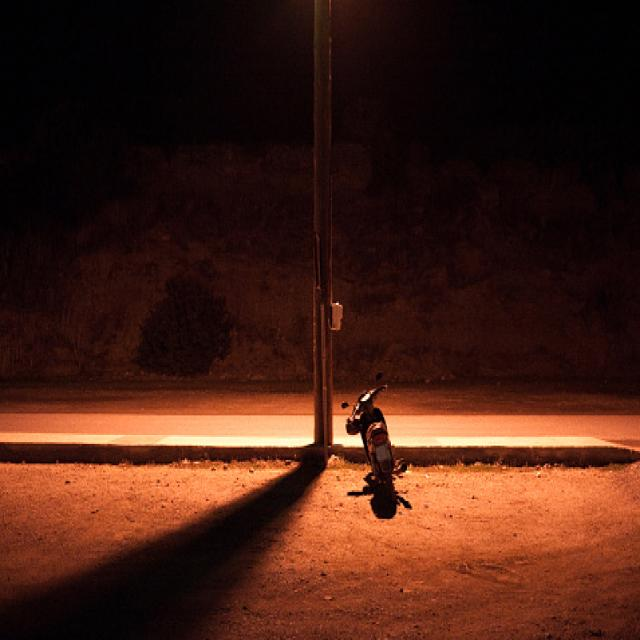Motorbike: (343, 346, 419, 520)
